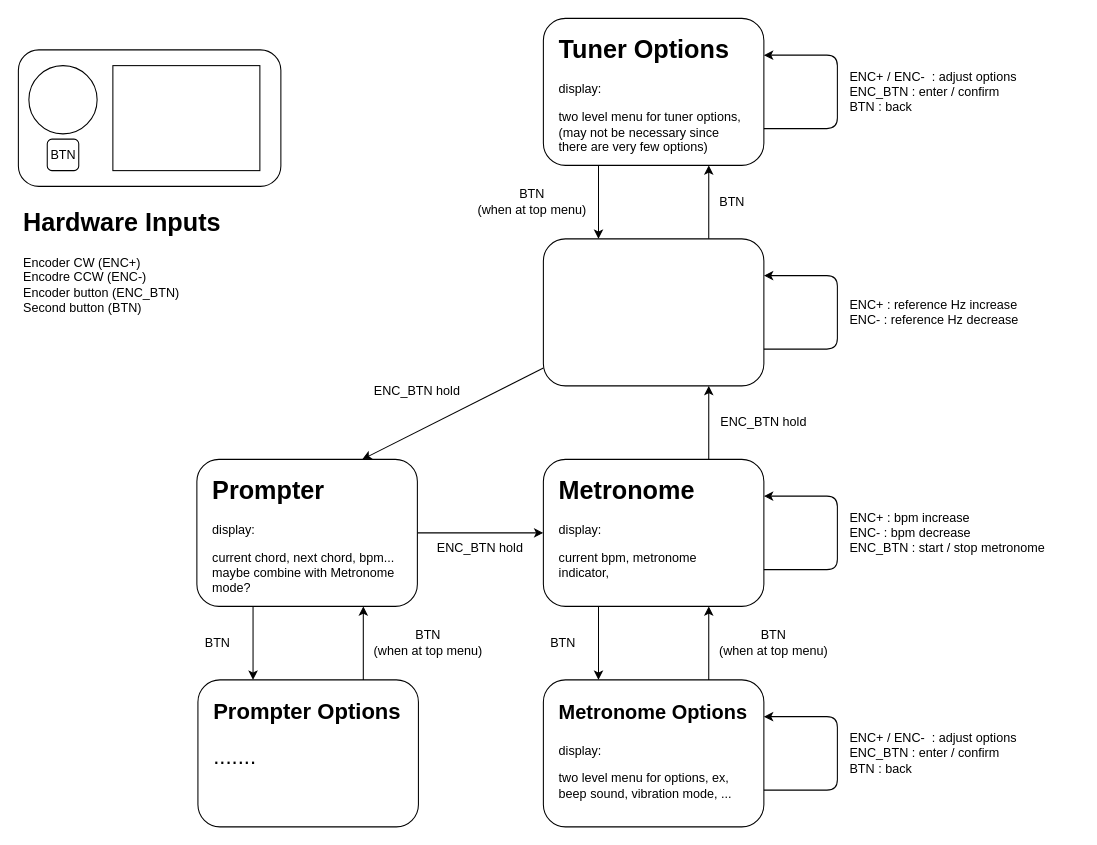
The diagram is 1097 pixels wide and 845 high, and some of its shapes have lost their labels. Here are the shapes that lost their labels. From the top down, the centre of each, then its label:
At (62,99): "ENC".
At (186,118): "Screen".
At (653,312): "Tuner display: current note / Hz, tuning needle, reference Hz...".
